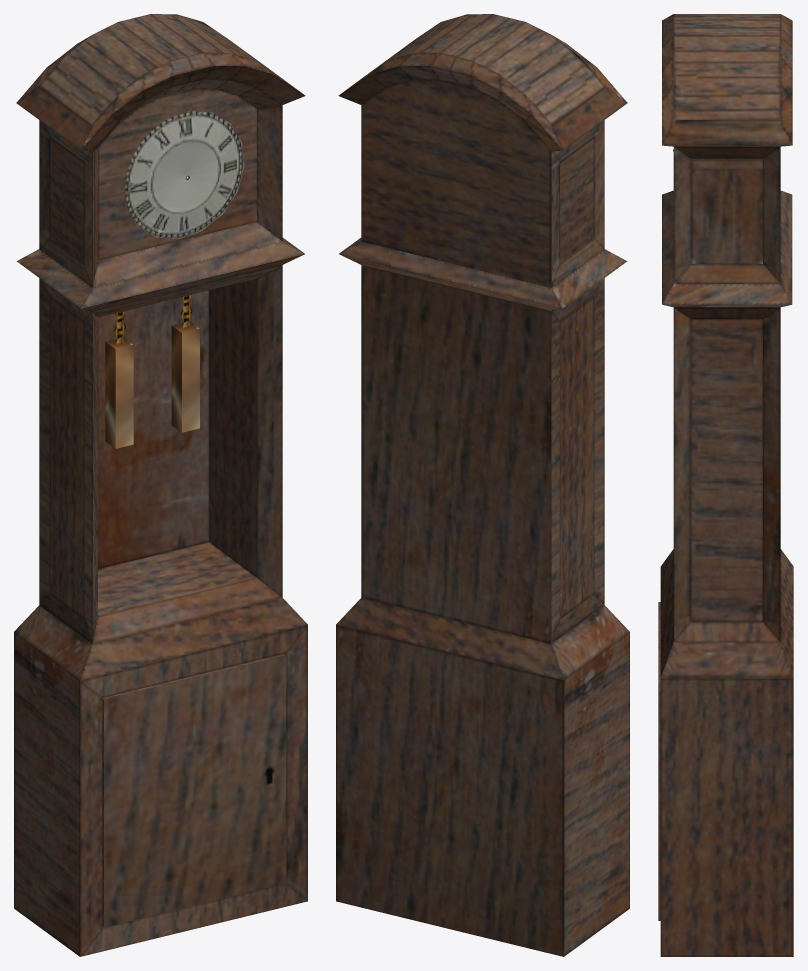
The model's file is grandfatherclock2.obj.
3 renders of one model, left to right at view 1: azimuth 30°, elevation 25°; view 2: azimuth 150°, elevation 25°; view 3: azimuth 270°, elevation 25°, orthographic.
Visible parts, largest first — view 1: clock_body_clock_texture, door_clock_texture, face_clock_texture, right_weight_clock_texture, right_weight_copy11_clock_texture; view 2: clock_body_clock_texture; view 3: clock_body_clock_texture, door_clock_texture.
Part boxes in pixels (left/top/right/bottom): clock_body_clock_texture: left=14, top=14, right=307, bottom=956; door_clock_texture: left=102, top=654, right=286, bottom=927; face_clock_texture: left=124, top=111, right=244, bottom=238; right_weight_clock_texture: left=171, top=294, right=199, bottom=432; right_weight_copy11_clock_texture: left=105, top=311, right=133, bottom=448; clock_body_clock_texture: left=336, top=14, right=629, bottom=956; clock_body_clock_texture: left=660, top=14, right=793, bottom=956; door_clock_texture: left=658, top=602, right=660, bottom=920.
Bounding box in the file's own units: 2.17 × 7.91 × 1.11.
